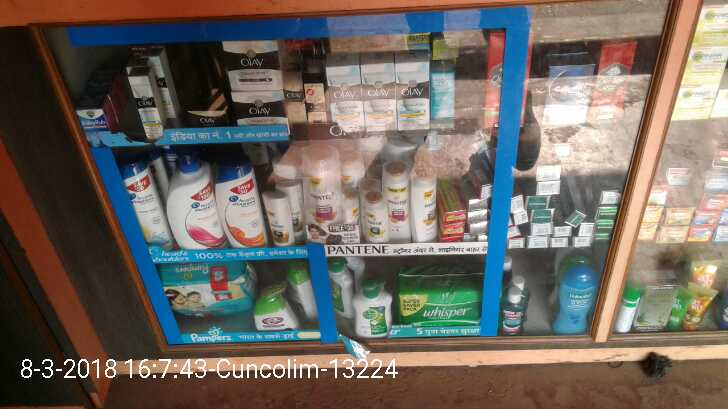beauty: (163, 153, 218, 252), (220, 161, 272, 245), (129, 159, 169, 247), (356, 60, 400, 133), (326, 58, 363, 137), (221, 43, 283, 89), (399, 52, 431, 131), (130, 72, 167, 137), (228, 92, 282, 133), (287, 76, 309, 123), (305, 74, 325, 123)
pharmacy: (164, 259, 259, 324), (397, 275, 480, 326)
